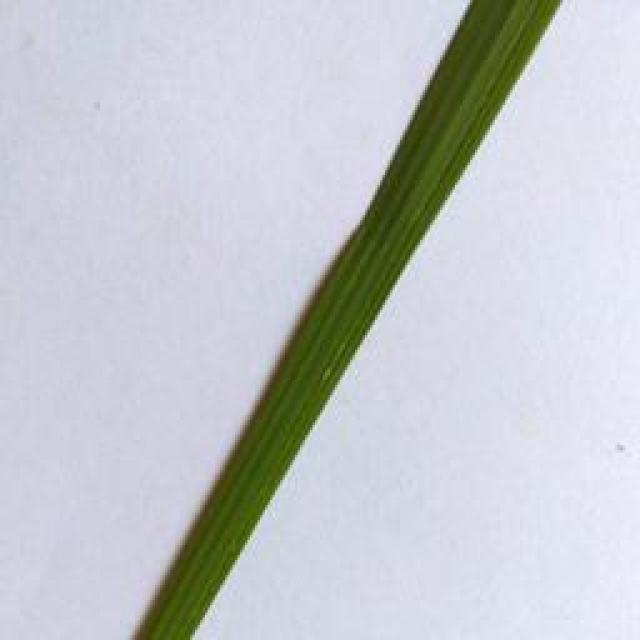Healthy-Plant: (141, 0, 560, 640)
